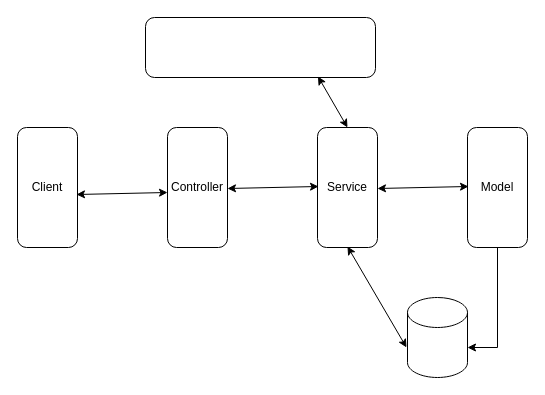
This 545x395 diagram has some shape labels left out. Here are the shapes that lost their labels. From the top down, the centre of each, then its label:
At point 260,47: "Repository Class Extending CRUD Services".
At point 437,337: "Database".
